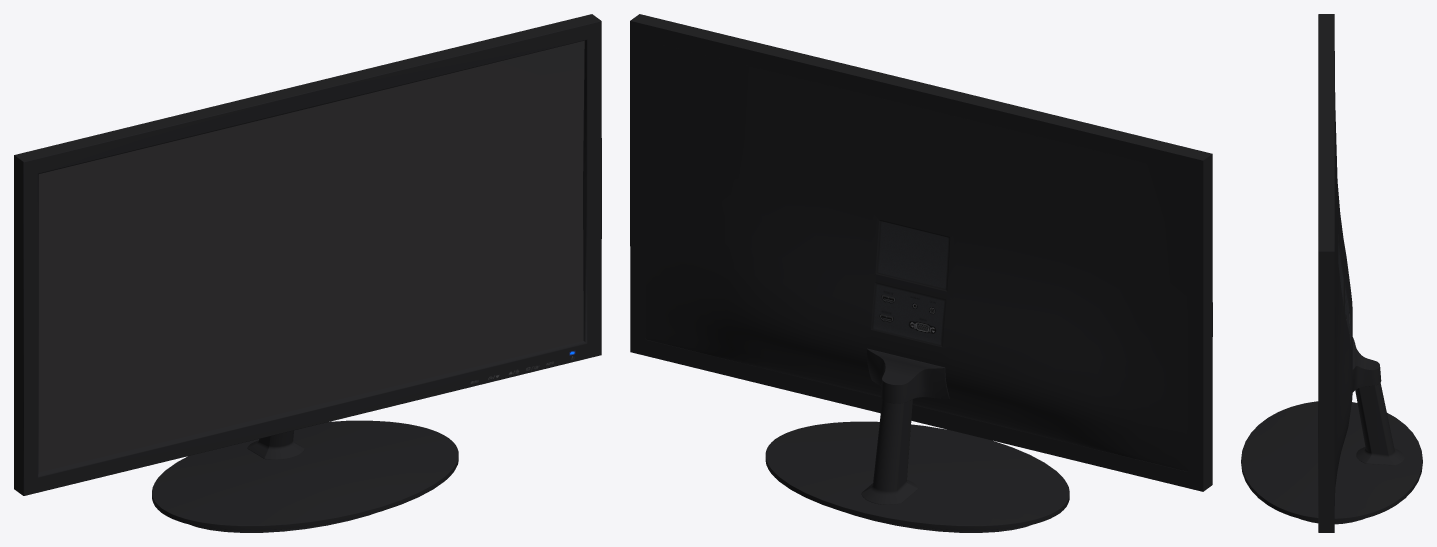
File: Monitor On Stand.glb
The picture shows the model from 3 angles, left to right: view 1: azimuth 30°, elevation 25°; view 2: azimuth 150°, elevation 25°; view 3: azimuth 270°, elevation 25°; orthographic projection. The views are drawn at different scales.
Visible parts, largest first — view 1: monitor_on_stand.1; view 2: monitor_on_stand.1; view 3: monitor_on_stand.1.
Boxes of the visible parts, box(x1,y1,x2,y2) form: monitor_on_stand.1: box(14, 14, 601, 532); monitor_on_stand.1: box(630, 14, 1212, 532); monitor_on_stand.1: box(1241, 14, 1422, 532).
Size of the model in its own units: 0.2372 by 0.1582 by 0.0767.
Materials: 1 (1 with a texture image).
